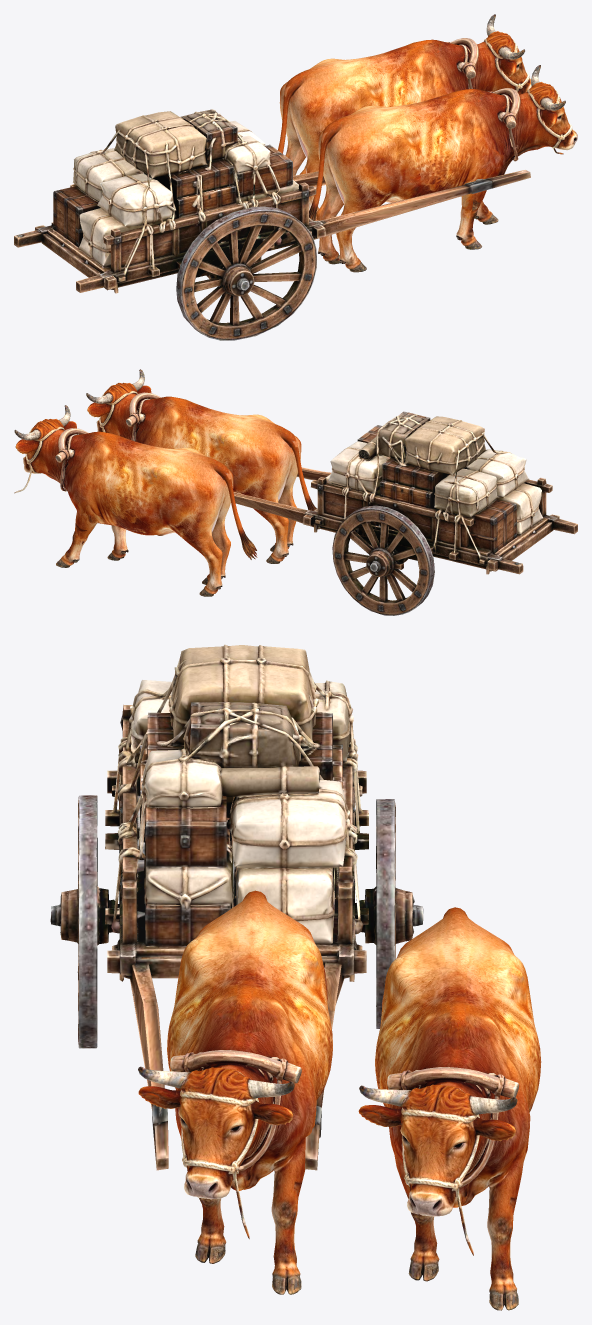
The model's file is qm_oxcart.glb.
The picture shows the model from 3 angles, top to bottom: view 1: azimuth 30°, elevation 25°; view 2: azimuth 150°, elevation 25°; view 3: azimuth 270°, elevation 25°; orthographic projection. The views are drawn at different scales.
Parts seen in each view (by area): view 1: qm_cart, qm_ox, qm_ox.001; view 2: qm_cart, qm_ox.001, qm_ox; view 3: qm_cart, qm_ox, qm_ox.001.
Boxes of the visible parts, x1=… form: qm_cart: x1=14, y1=109, x2=530, y2=340; qm_ox: x1=309, y1=65, x2=577, y2=272; qm_ox.001: x1=278, y1=14, x2=531, y2=220; qm_cart: x1=233, y1=411, x2=577, y2=615; qm_ox.001: x1=14, y1=405, x2=257, y2=596; qm_ox: x1=86, y1=369, x2=316, y2=563; qm_cart: x1=50, y1=644, x2=423, y2=1170; qm_ox: x1=138, y1=890, x2=332, y2=1294; qm_ox.001: x1=358, y1=907, x2=541, y2=1310.
Size of the model in its own units: 5.5 by 1.86 by 2.45.
3 materials, 3 textured.
